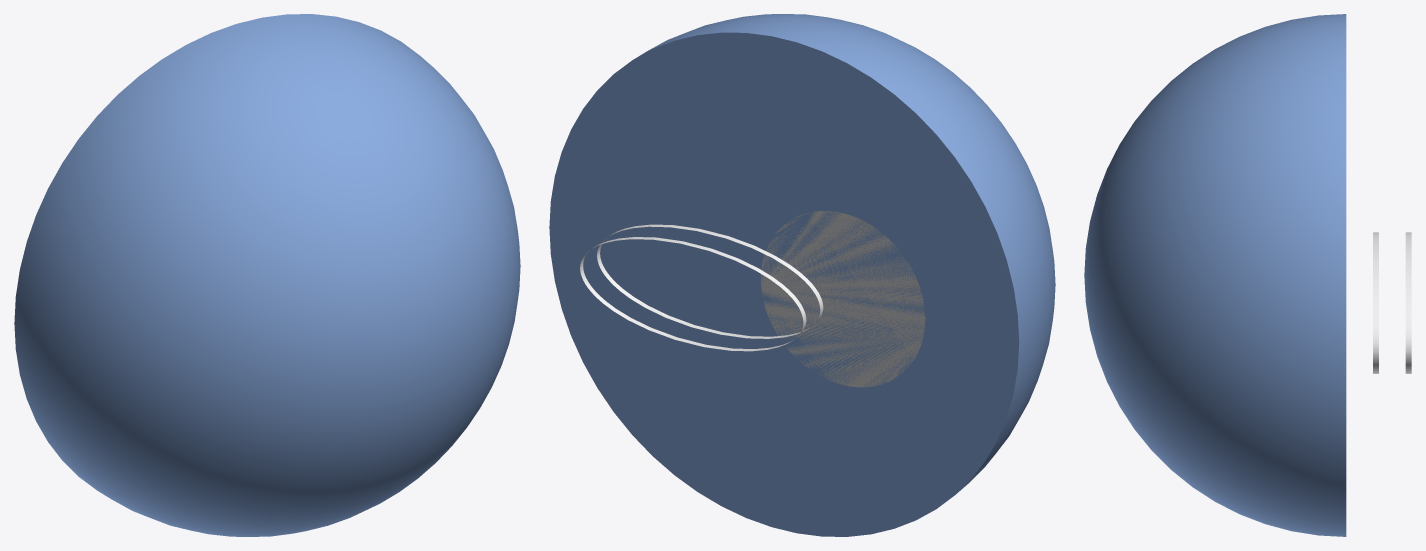
File: 16_plasma_cell parts - Composite part 6.glb
3 views of the same model, side by side, from view 1: azimuth 30°, elevation 25°; view 2: azimuth 150°, elevation 25°; view 3: azimuth 270°, elevation 25° (orthographic). The views are drawn at different scales.
Parts seen in each view (by area): view 1: Open CASCADE STEP translator 7.9 16.1; view 2: Open CASCADE STEP translator 7.9 16.1, Open CASCADE STEP translator 7.9 16.2, Open CASCADE STEP translator 7.9 16.3, Open CASCADE STEP translator 7.9 16.4; view 3: Open CASCADE STEP translator 7.9 16.1, Open CASCADE STEP translator 7.9 16.3, Open CASCADE STEP translator 7.9 16.4.
Part boxes in pixels (bbox=[...]): Open CASCADE STEP translator 7.9 16.1: bbox=[14, 14, 520, 536]; Open CASCADE STEP translator 7.9 16.1: bbox=[549, 14, 1055, 536]; Open CASCADE STEP translator 7.9 16.2: bbox=[761, 211, 925, 387]; Open CASCADE STEP translator 7.9 16.3: bbox=[580, 237, 806, 351]; Open CASCADE STEP translator 7.9 16.4: bbox=[597, 224, 823, 338]; Open CASCADE STEP translator 7.9 16.1: bbox=[1084, 14, 1346, 536]; Open CASCADE STEP translator 7.9 16.3: bbox=[1405, 232, 1411, 373]; Open CASCADE STEP translator 7.9 16.4: bbox=[1373, 232, 1378, 373].
Size of the model in its own units: 0.016 by 0.016 by 0.01.
